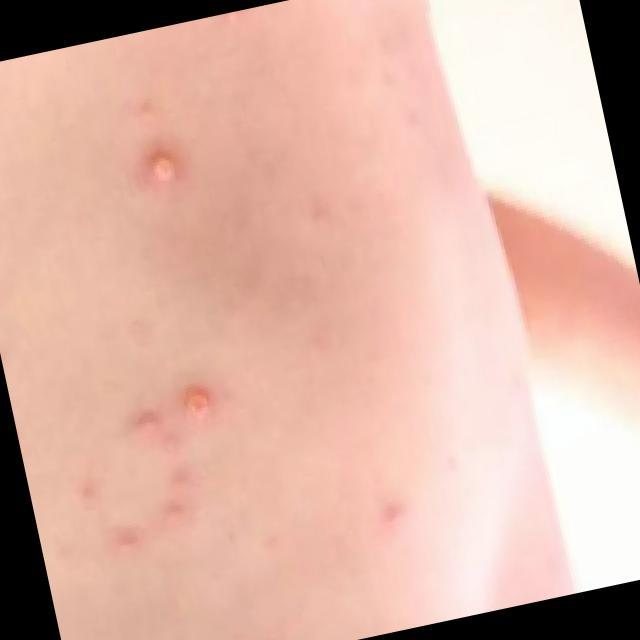Eczema: (103, 377, 216, 541), (128, 140, 179, 190)
